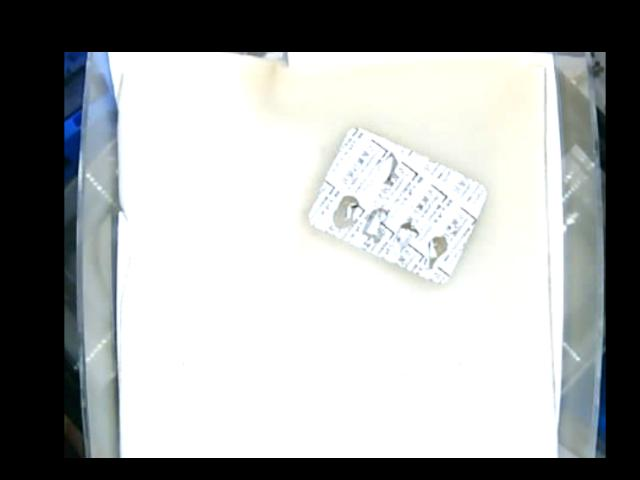Medicine: (307, 124, 486, 284)
